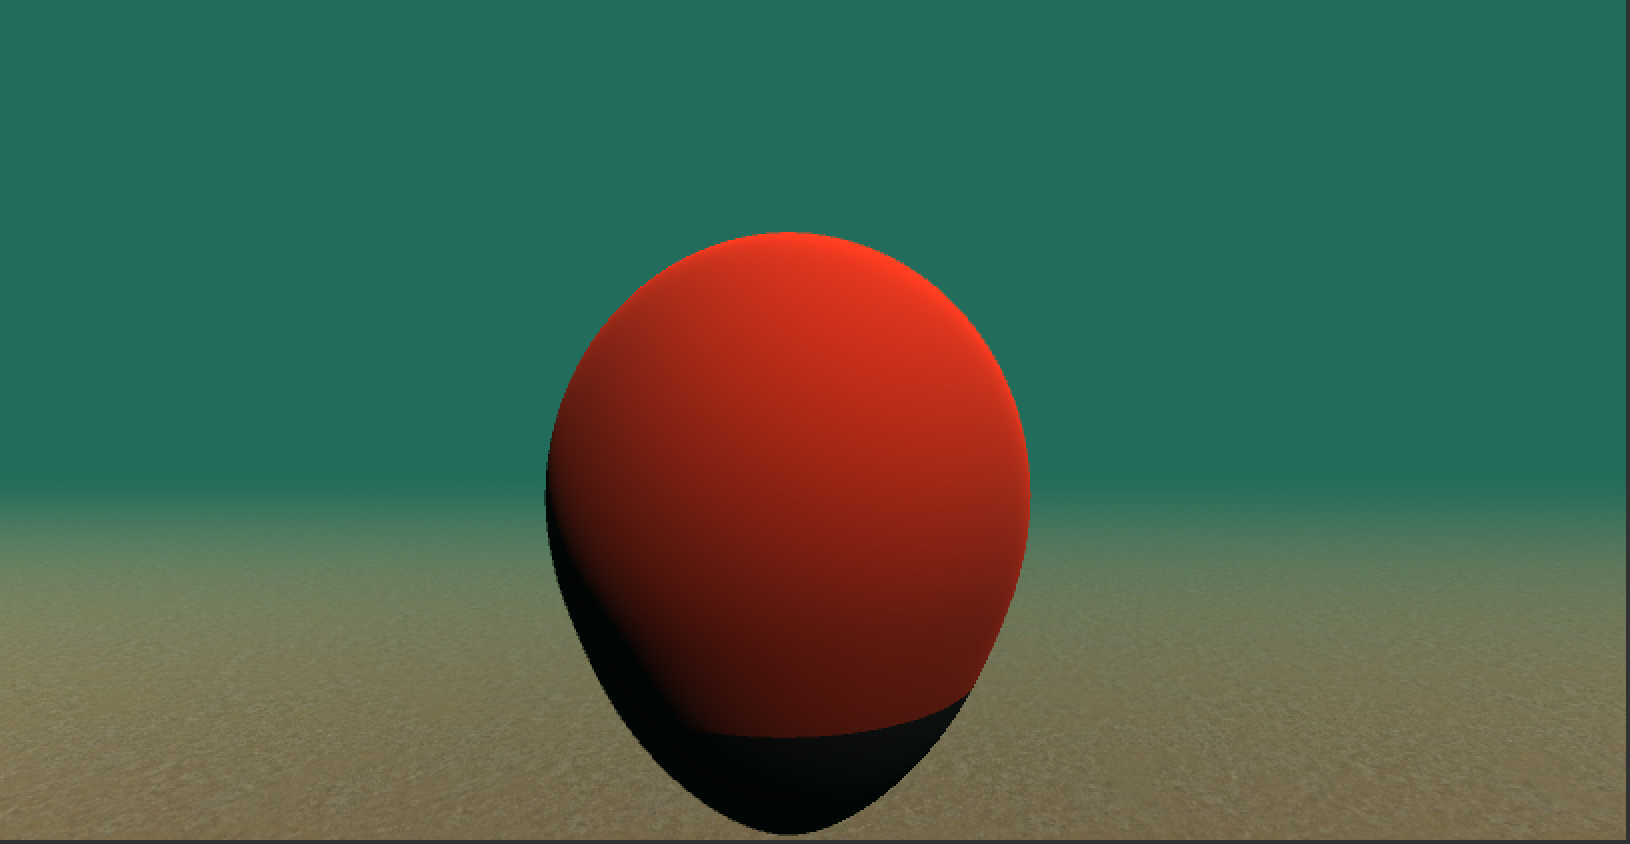orange buoy: (539, 228, 1039, 841)
